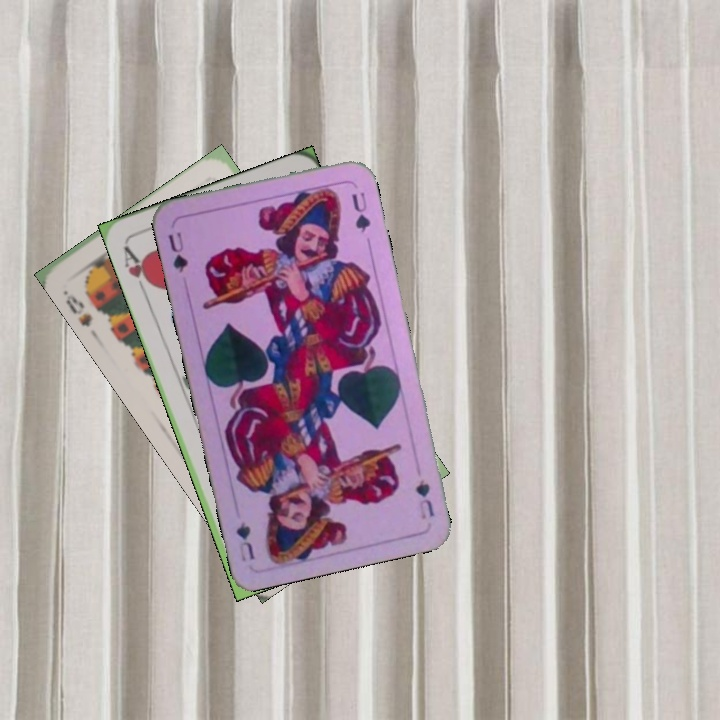GU: (164, 228, 191, 276), (411, 475, 437, 522)
HA: (119, 241, 157, 298)
S8: (59, 286, 95, 330)
